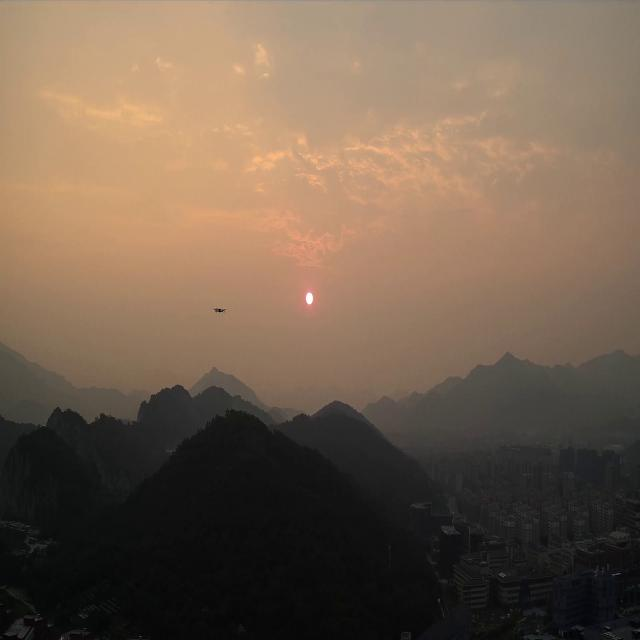UAV: (212, 306, 226, 314)
